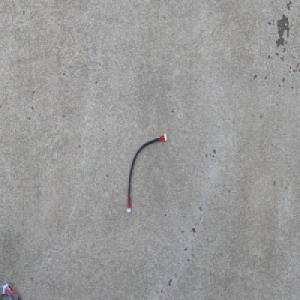Wire: (125, 130, 167, 214)
